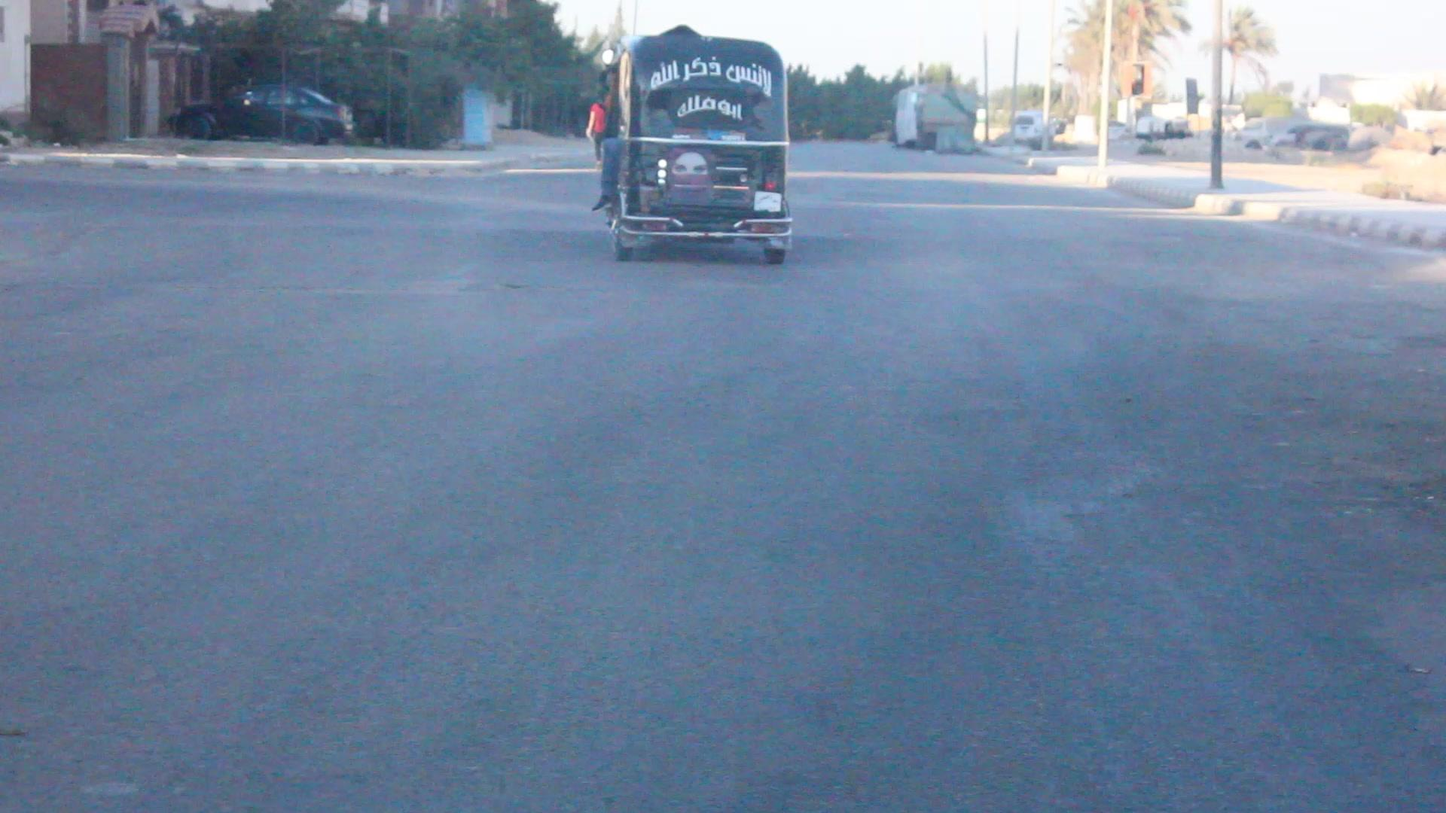Bump: (0, 201, 1446, 295)
